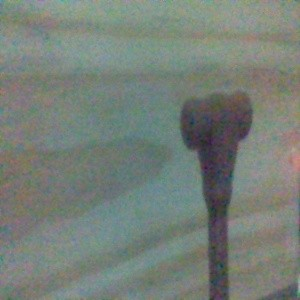palu: (179, 89, 253, 300)
